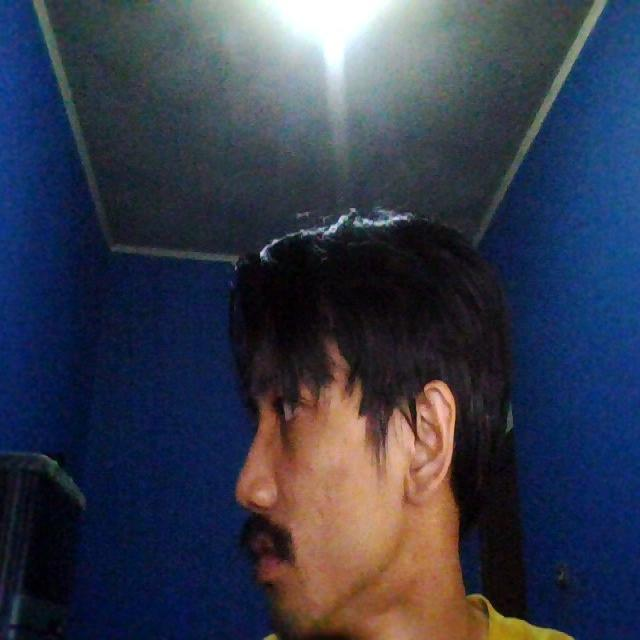Melihat kekanan: (196, 202, 530, 638)
